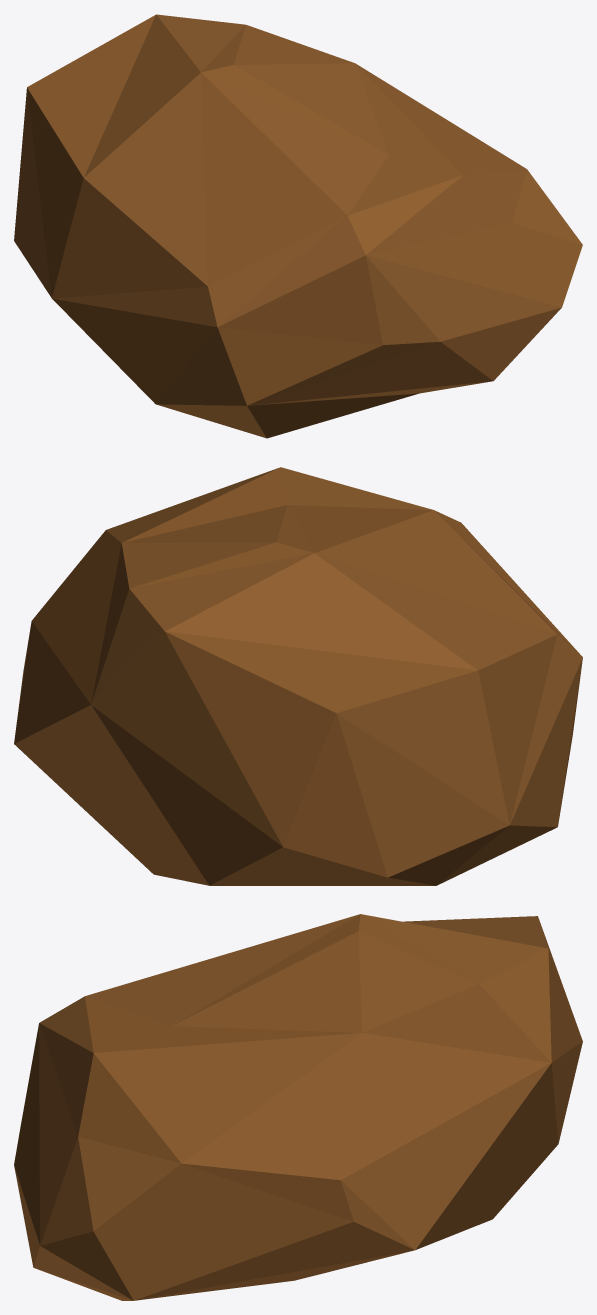
File: Mosh 12.FBX
The picture shows the model from 3 angles, top to bottom: view 1: azimuth 30°, elevation 25°; view 2: azimuth 150°, elevation 25°; view 3: azimuth 270°, elevation 25°; orthographic projection. The views are drawn at different scales.
Parts seen in each view (by area): view 1: cube; view 2: cube; view 3: cube.
Part boxes in pixels (box(x1,y1,x2,y2)): cube: box(14, 14, 582, 438); cube: box(14, 467, 582, 885); cube: box(14, 914, 582, 1300).
Size of the model in its own units: 72.43 by 47.18 by 75.31.
